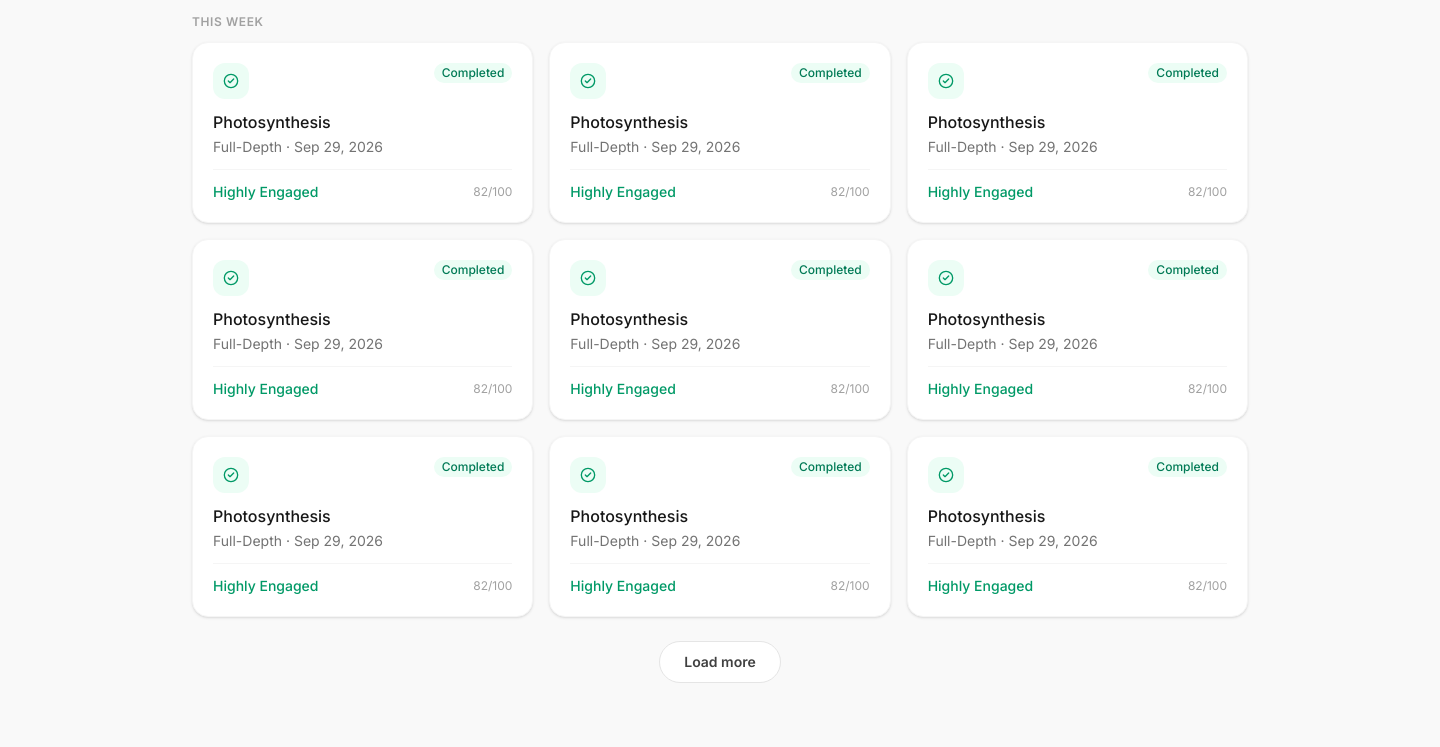
Test: ReportsIndex — Story 2-58 / BR-7 › "Load more" › reveals the rest and hides the button once "Load more" is clicked
The image size is (1440, 747).
(page scrolled)
Click the button "Load more".
click(720, 662)  # box left=659, top=641, right=781, bottom=683
(page scrolled)
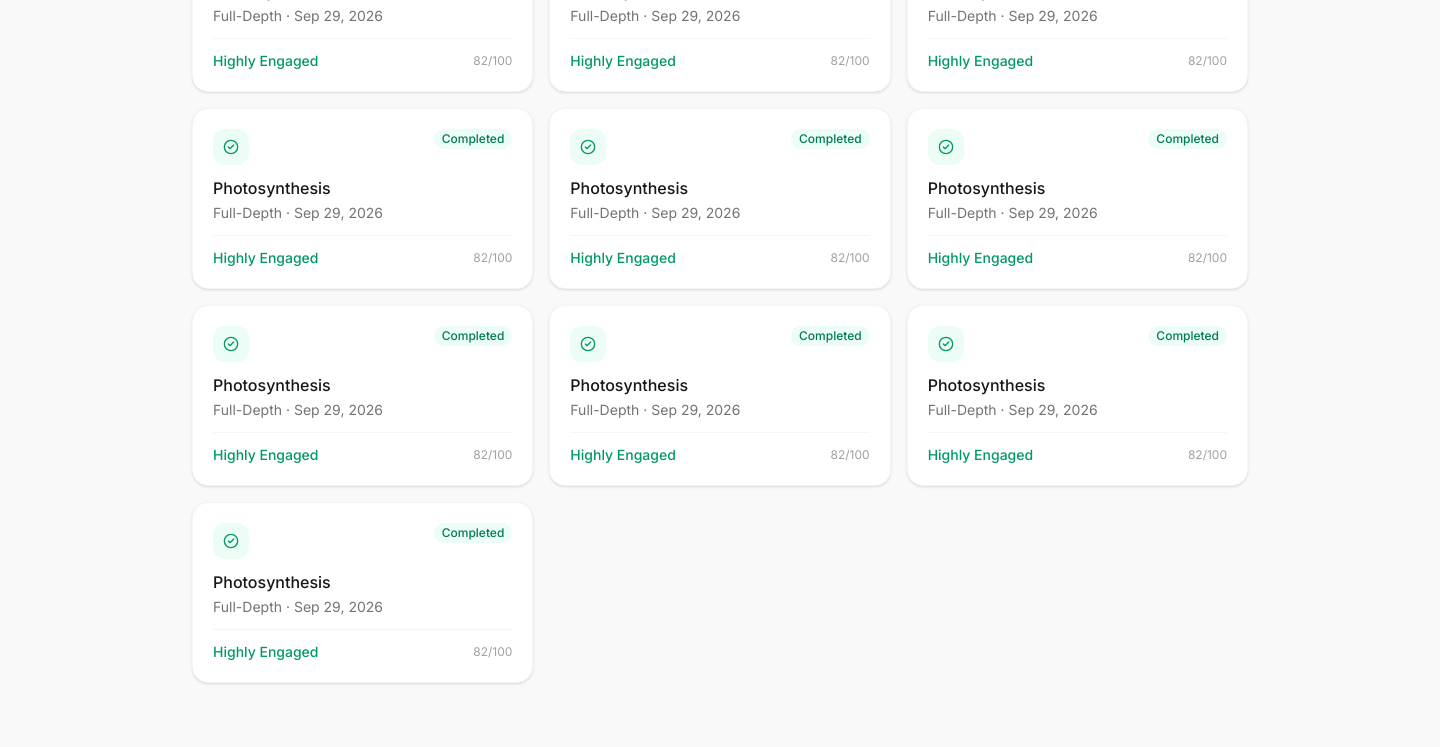
Now the button "Load more" is gone
